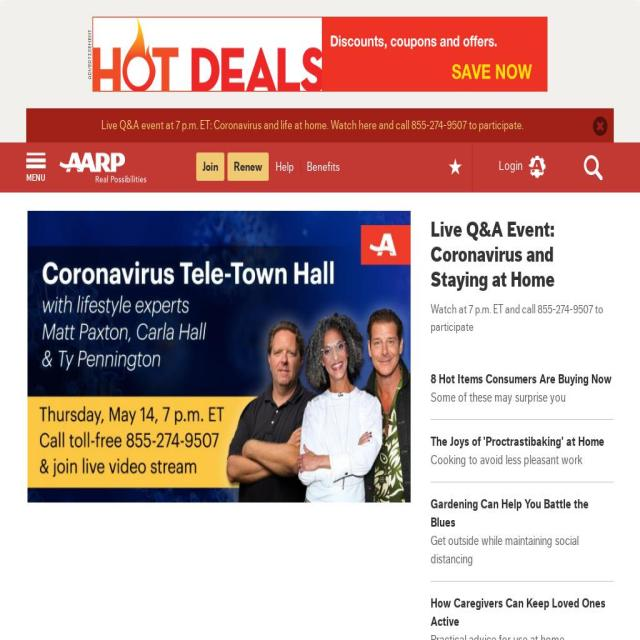button: (28, 211, 410, 502), (572, 142, 614, 192), (26, 153, 46, 184)
heading: (430, 219, 555, 291)
iframe: (92, 17, 548, 92)
image: (28, 211, 410, 502), (59, 152, 147, 182)
link: (100, 119, 522, 132), (430, 597, 606, 628), (430, 498, 589, 529), (430, 372, 612, 386), (430, 435, 604, 448), (233, 161, 263, 173), (275, 161, 294, 173), (202, 161, 218, 173), (448, 160, 462, 173)
text: (430, 532, 614, 568), (430, 301, 614, 336), (430, 388, 614, 407), (430, 451, 614, 469), (430, 631, 614, 640), (583, 142, 603, 192), (306, 161, 340, 173), (499, 159, 523, 173), (26, 172, 46, 184), (521, 119, 524, 132)
